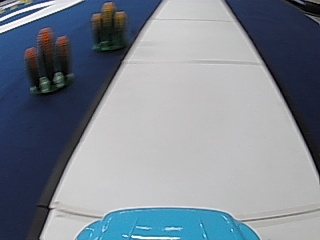tractor: (24, 24, 72, 100), (89, 0, 128, 51)
